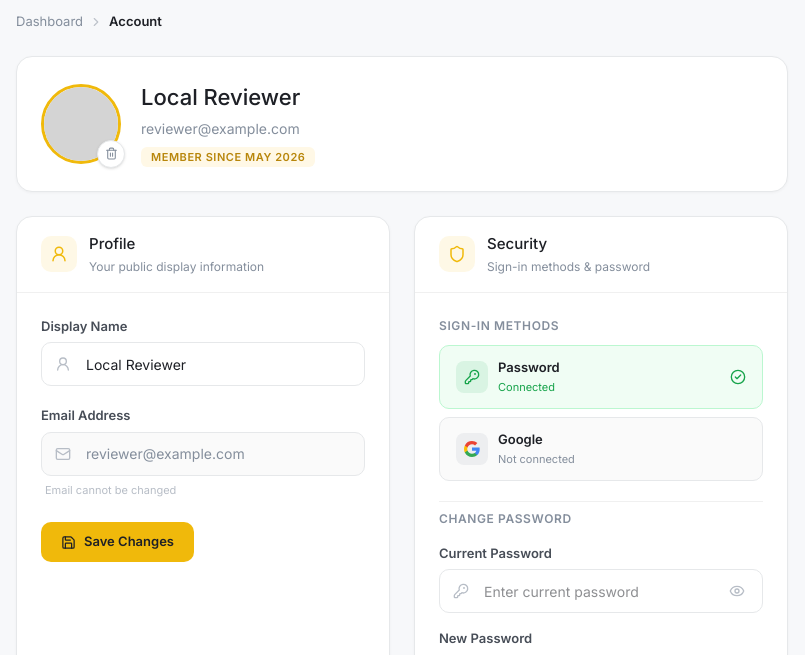
Test case: AccountPage › removes avatar and shows success message
Click the button named "remove avatar" at (111, 154), box [97,140,125,168]
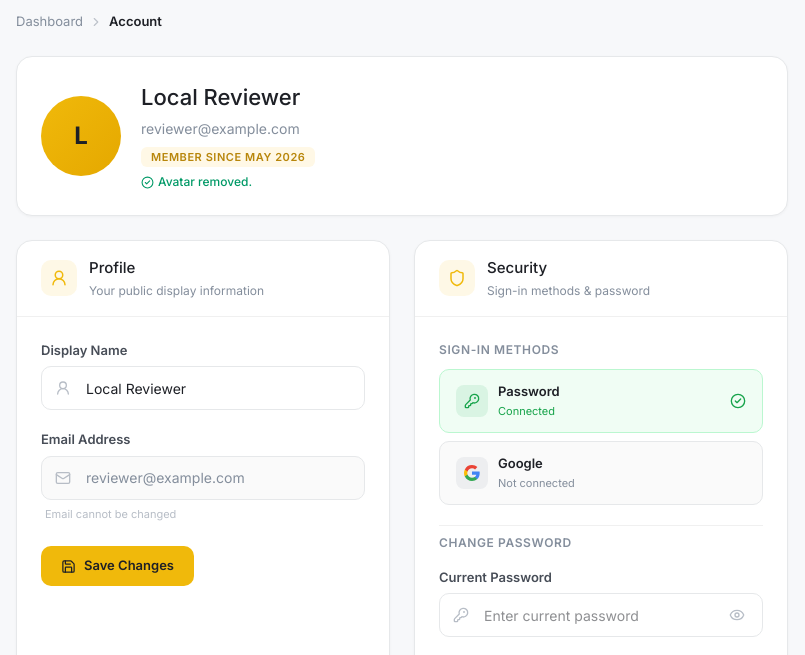
Expected: the text "Avatar removed." is shown, [141,174,252,189]
